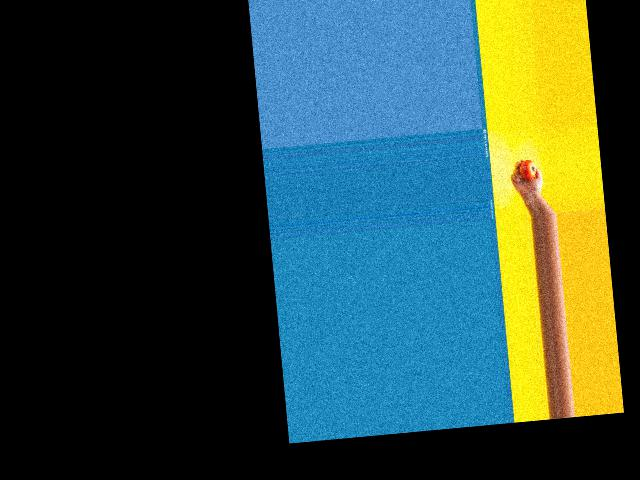tomato: (518, 159, 536, 180)
